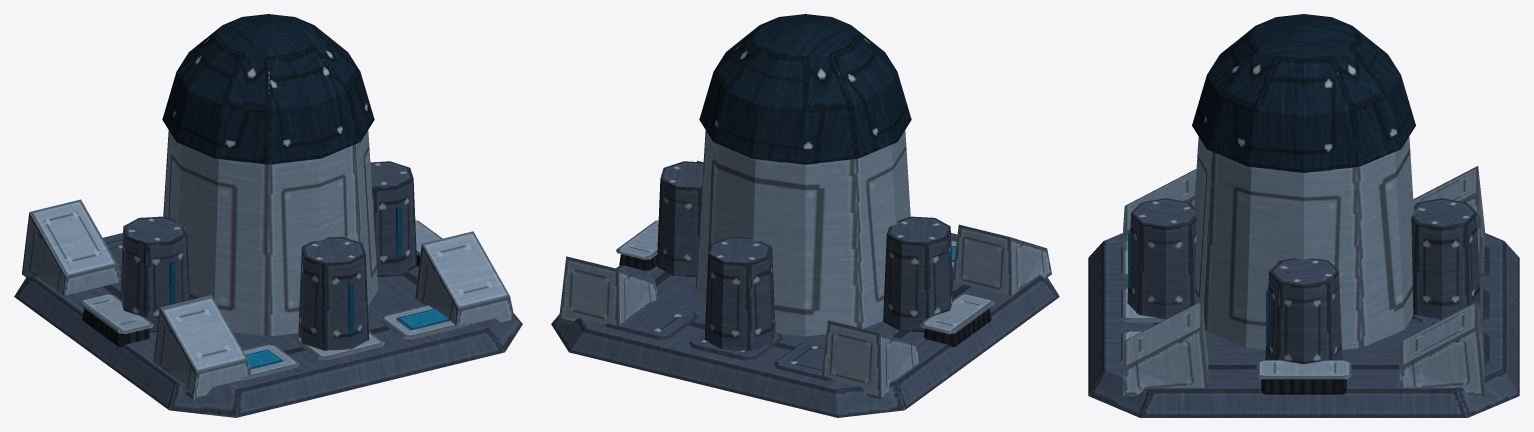
The model's file is building-advanced_lab.fbx.
The picture shows the model from 3 angles, left to right: view 1: azimuth 30°, elevation 25°; view 2: azimuth 150°, elevation 25°; view 3: azimuth 270°, elevation 25°; orthographic projection. The views are drawn at different scales.
Parts seen in each view (by area): view 1: building-advanced_lab; view 2: building-advanced_lab; view 3: building-advanced_lab.
Part boxes in pixels (x1,y1,x2,y2): building-advanced_lab: (14, 14, 522, 417); building-advanced_lab: (551, 14, 1059, 417); building-advanced_lab: (1088, 14, 1519, 417).
Bounding box in the file's own units: 2912 × 2257 × 2912.
1 material, 1 textured.
